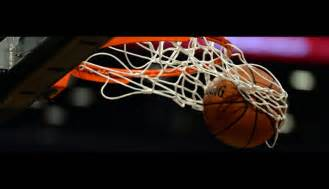basketball: (200, 61, 287, 149)
